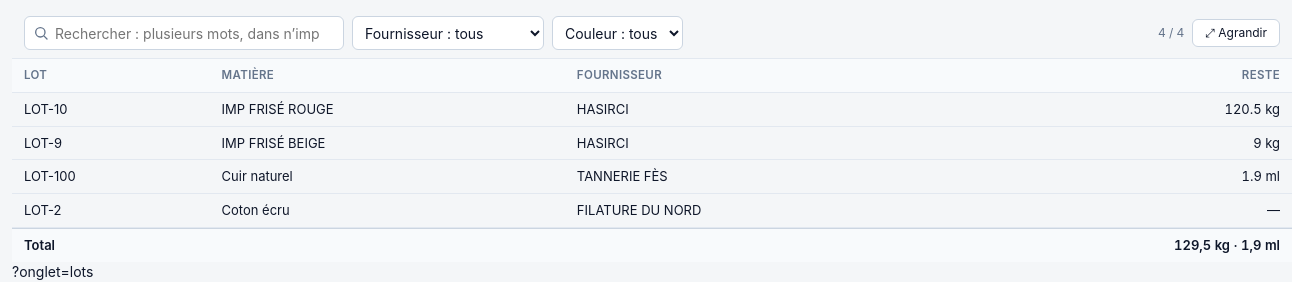
Scenario: DataTable — recherche › dans l’adresse, la recherche garde le focus pendant la frappe et s’écrit dans ?q=
(page scrolled)
In the search field: (184, 33) [24, 16, 344, 50], type "frise rouge"
(page scrolled)
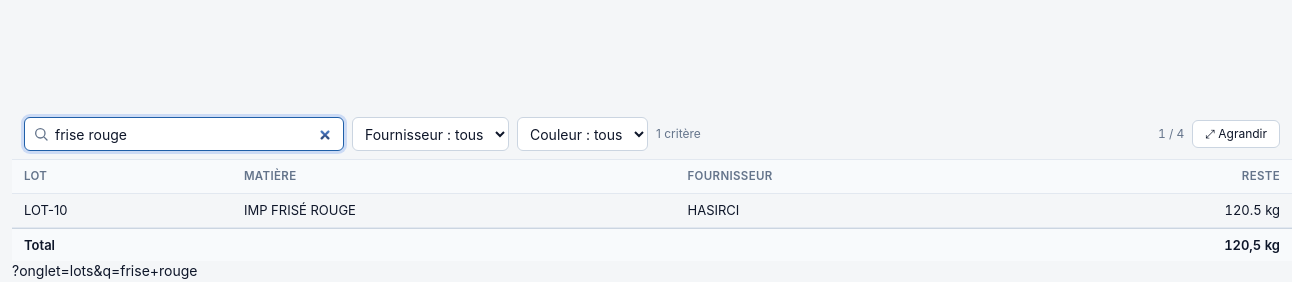
Now the text "?onglet=lots&q=frise+rouge" is shown, box [12, 262, 198, 279]
Select "HASIRCI (1)" in the dropdown named "Fournisseur": (430, 134) [352, 117, 509, 151]
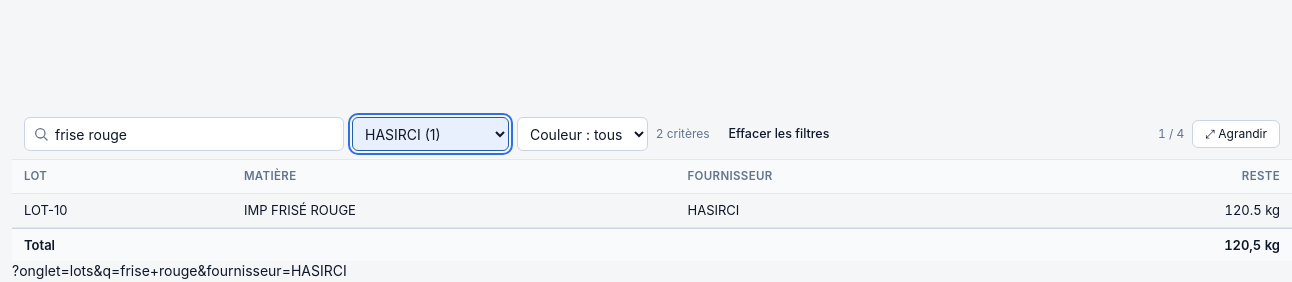
Click the button "Effacer les filtres": (779, 134) [718, 120, 840, 148]
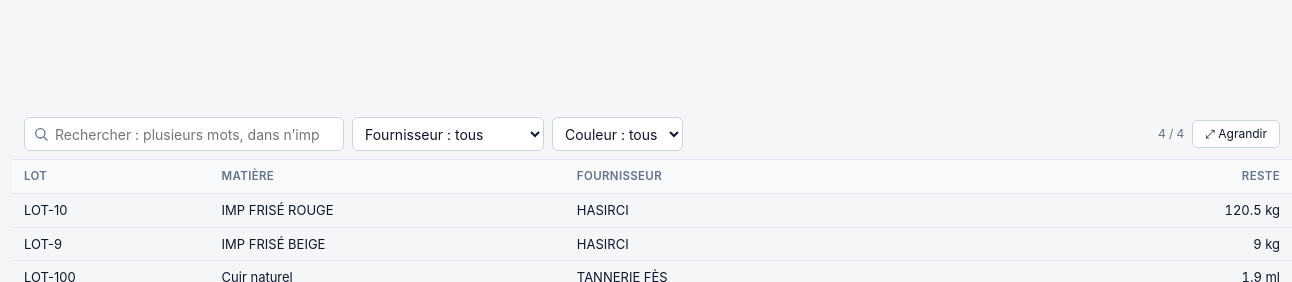
Now the search field is empty, box [24, 117, 344, 151]
